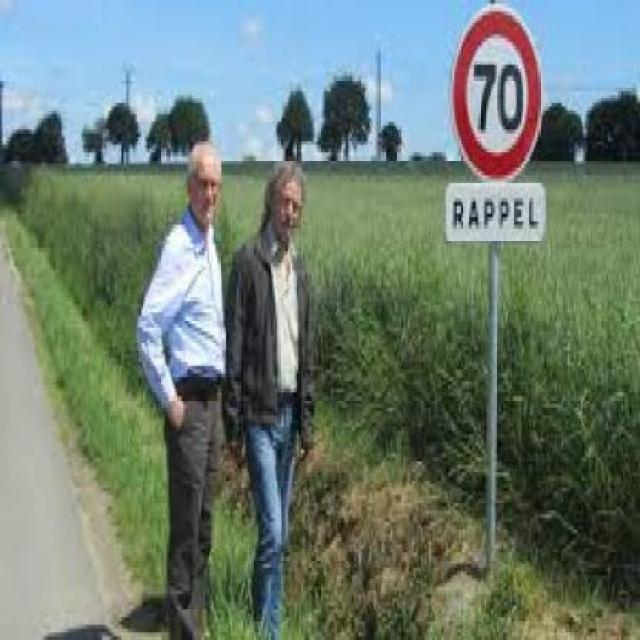forb_speed_over_70: (459, 10, 535, 181)
